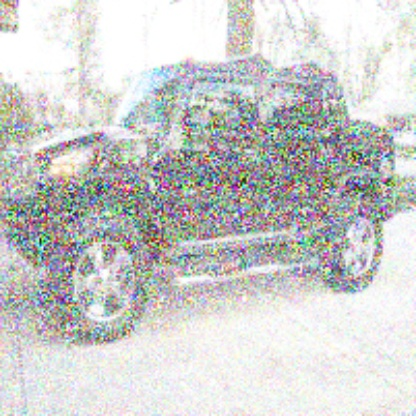Vehicle: (6, 52, 404, 345)
